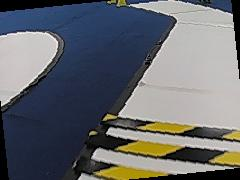bump: (87, 113, 238, 178)
